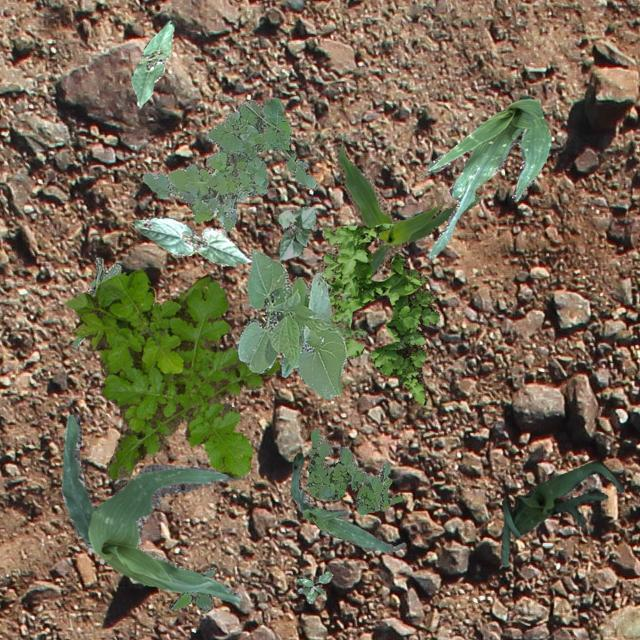crop: (60, 412, 242, 602), (426, 94, 550, 258), (332, 142, 480, 276), (238, 247, 346, 398), (500, 460, 622, 566), (290, 452, 404, 552), (130, 217, 252, 266), (130, 20, 172, 106), (276, 206, 314, 260)
weed: (64, 268, 278, 478), (142, 97, 316, 230), (314, 222, 438, 404), (304, 428, 402, 514), (70, 256, 120, 346), (168, 566, 215, 610), (294, 570, 332, 602), (328, 316, 366, 340)
